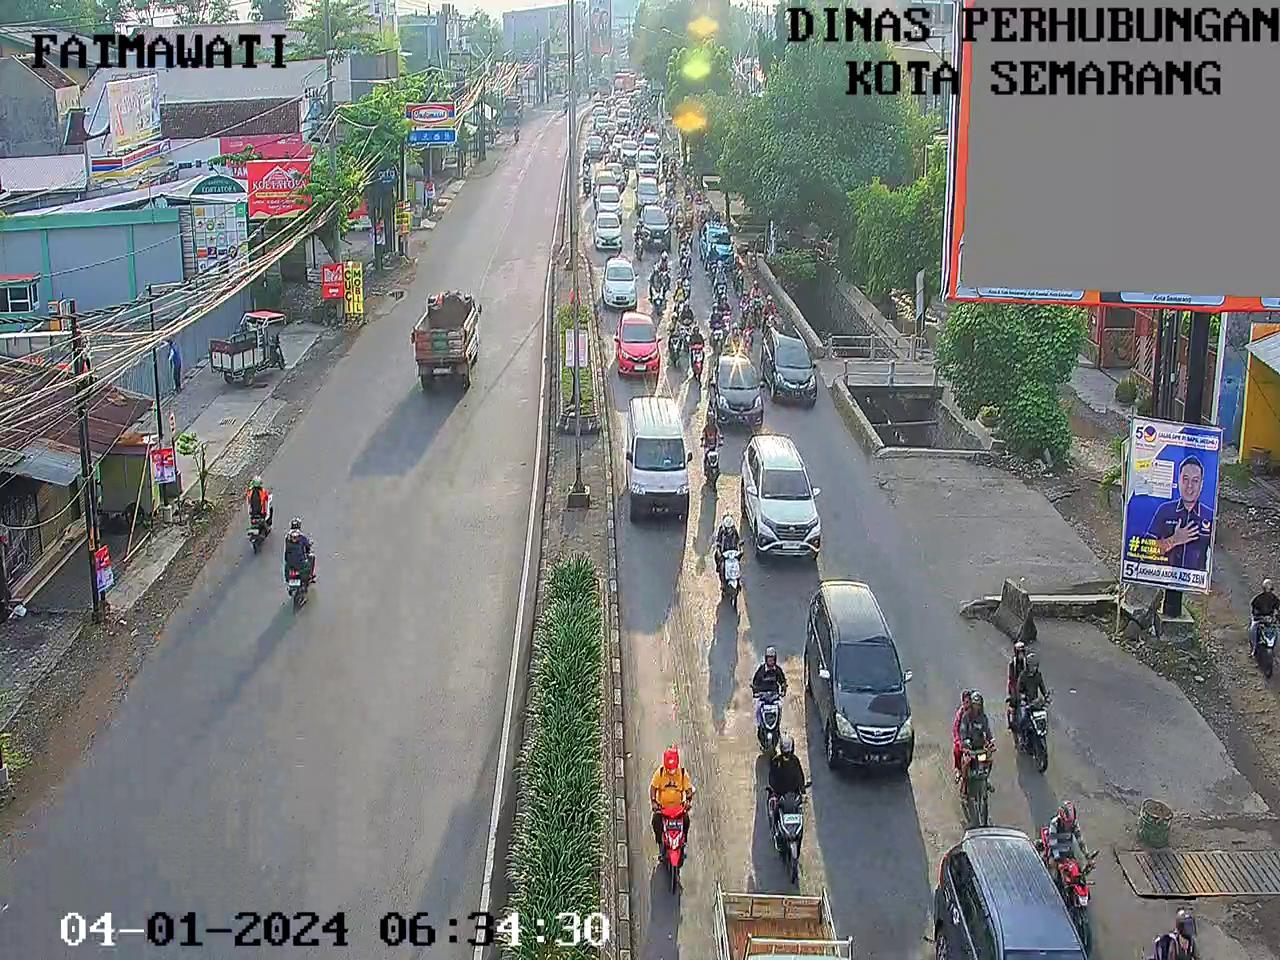car: (798, 573, 922, 778), (916, 826, 1089, 960), (736, 426, 829, 563), (622, 390, 694, 526), (762, 323, 821, 410), (712, 349, 764, 427), (615, 307, 664, 386), (600, 253, 638, 309), (639, 201, 673, 251), (591, 210, 627, 255), (698, 219, 735, 257), (596, 183, 626, 221), (631, 175, 663, 209), (590, 169, 619, 195), (636, 147, 659, 178), (642, 128, 663, 154), (619, 136, 639, 161), (585, 134, 604, 160), (604, 161, 626, 182), (595, 114, 612, 131), (612, 132, 629, 149), (616, 96, 633, 109), (617, 105, 632, 118), (593, 106, 609, 117), (593, 96, 607, 105), (633, 85, 643, 95), (626, 88, 635, 98)
motorcycle: (1032, 787, 1110, 928), (998, 636, 1058, 782), (765, 727, 817, 890), (648, 732, 698, 899), (942, 684, 1002, 824), (706, 507, 750, 613), (752, 639, 788, 759), (692, 400, 731, 495), (1148, 903, 1208, 960), (685, 322, 706, 385), (708, 301, 729, 358), (666, 313, 685, 372), (709, 256, 731, 303), (649, 262, 668, 315), (748, 277, 765, 327), (731, 252, 748, 299), (677, 296, 696, 336), (741, 309, 756, 355), (675, 233, 694, 269), (659, 248, 673, 291), (677, 258, 692, 298), (674, 275, 688, 317), (705, 241, 722, 273), (633, 221, 645, 264), (728, 319, 741, 357), (764, 310, 785, 333), (763, 294, 776, 327), (582, 167, 594, 199), (740, 289, 751, 322), (667, 158, 680, 186), (667, 184, 677, 214), (675, 203, 685, 231), (661, 189, 671, 217), (582, 154, 594, 177), (684, 179, 695, 203), (661, 150, 670, 177), (685, 223, 694, 249), (695, 185, 703, 214), (602, 142, 612, 165), (622, 157, 632, 181), (697, 208, 708, 229), (680, 157, 689, 181), (712, 207, 722, 225), (685, 202, 693, 224), (602, 126, 611, 144), (583, 145, 592, 162), (708, 203, 716, 221), (612, 146, 619, 165), (630, 127, 638, 143), (632, 115, 640, 131), (649, 122, 657, 136), (655, 145, 662, 160), (643, 118, 649, 133), (622, 120, 628, 134), (606, 103, 611, 119), (642, 110, 650, 119), (641, 99, 646, 111), (645, 98, 650, 108), (636, 103, 640, 114)
truck: (705, 873, 859, 960)
